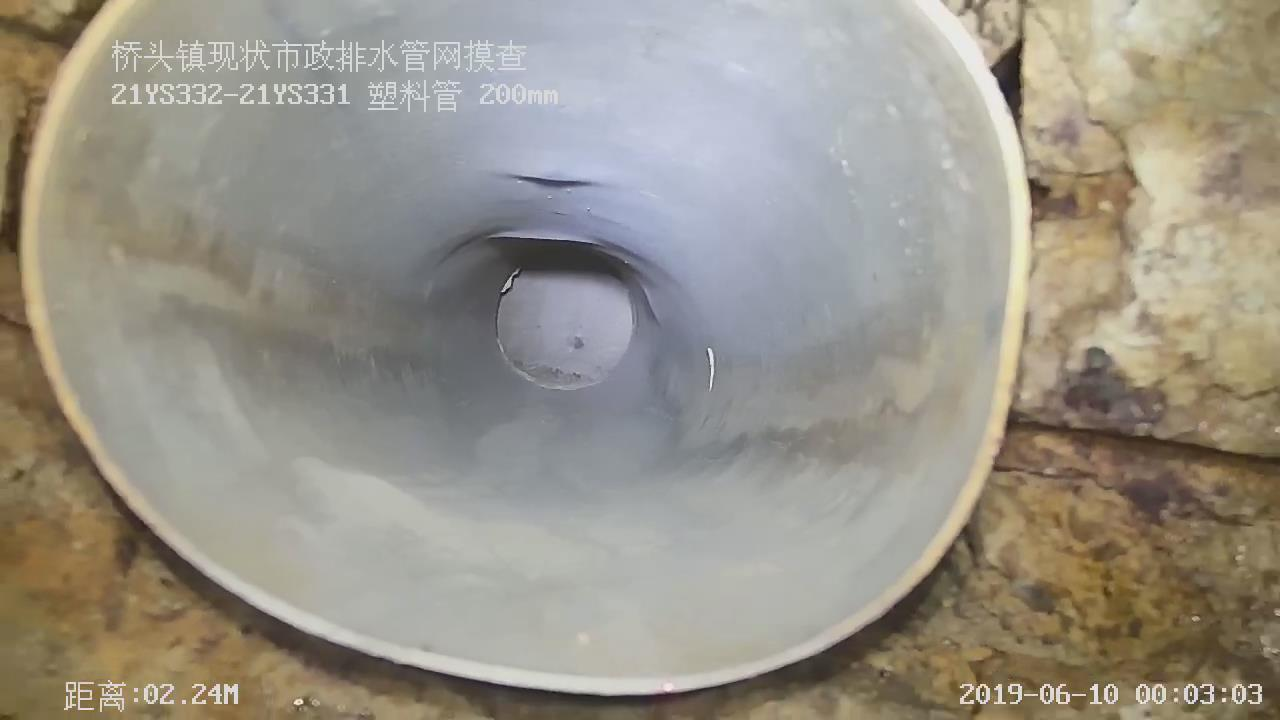BX: (421, 158, 724, 319)
